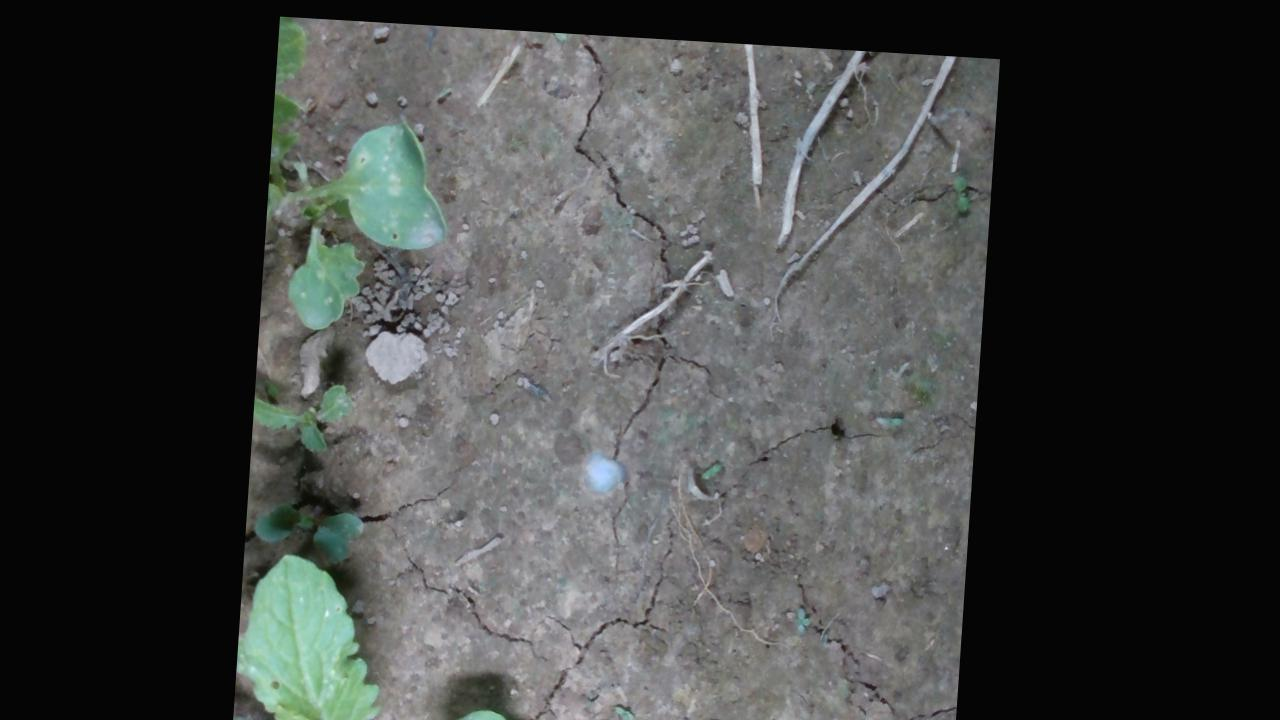weed: (687, 717, 735, 719)
